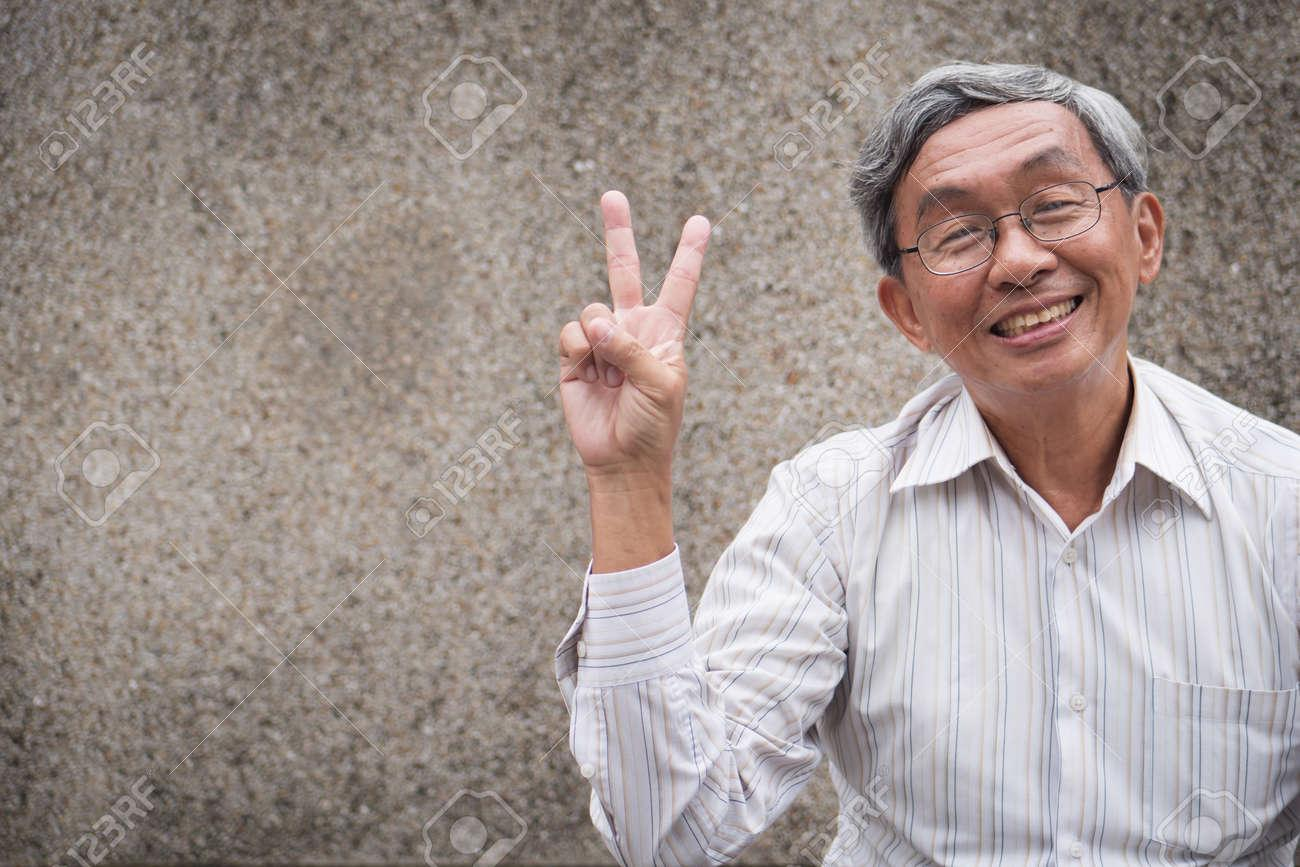peace_sign: (546, 185, 727, 479)
